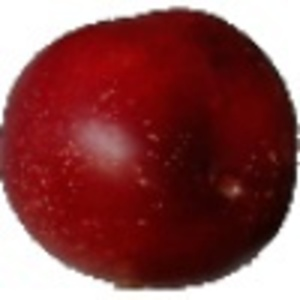nectarina: (1, 5, 300, 293)
